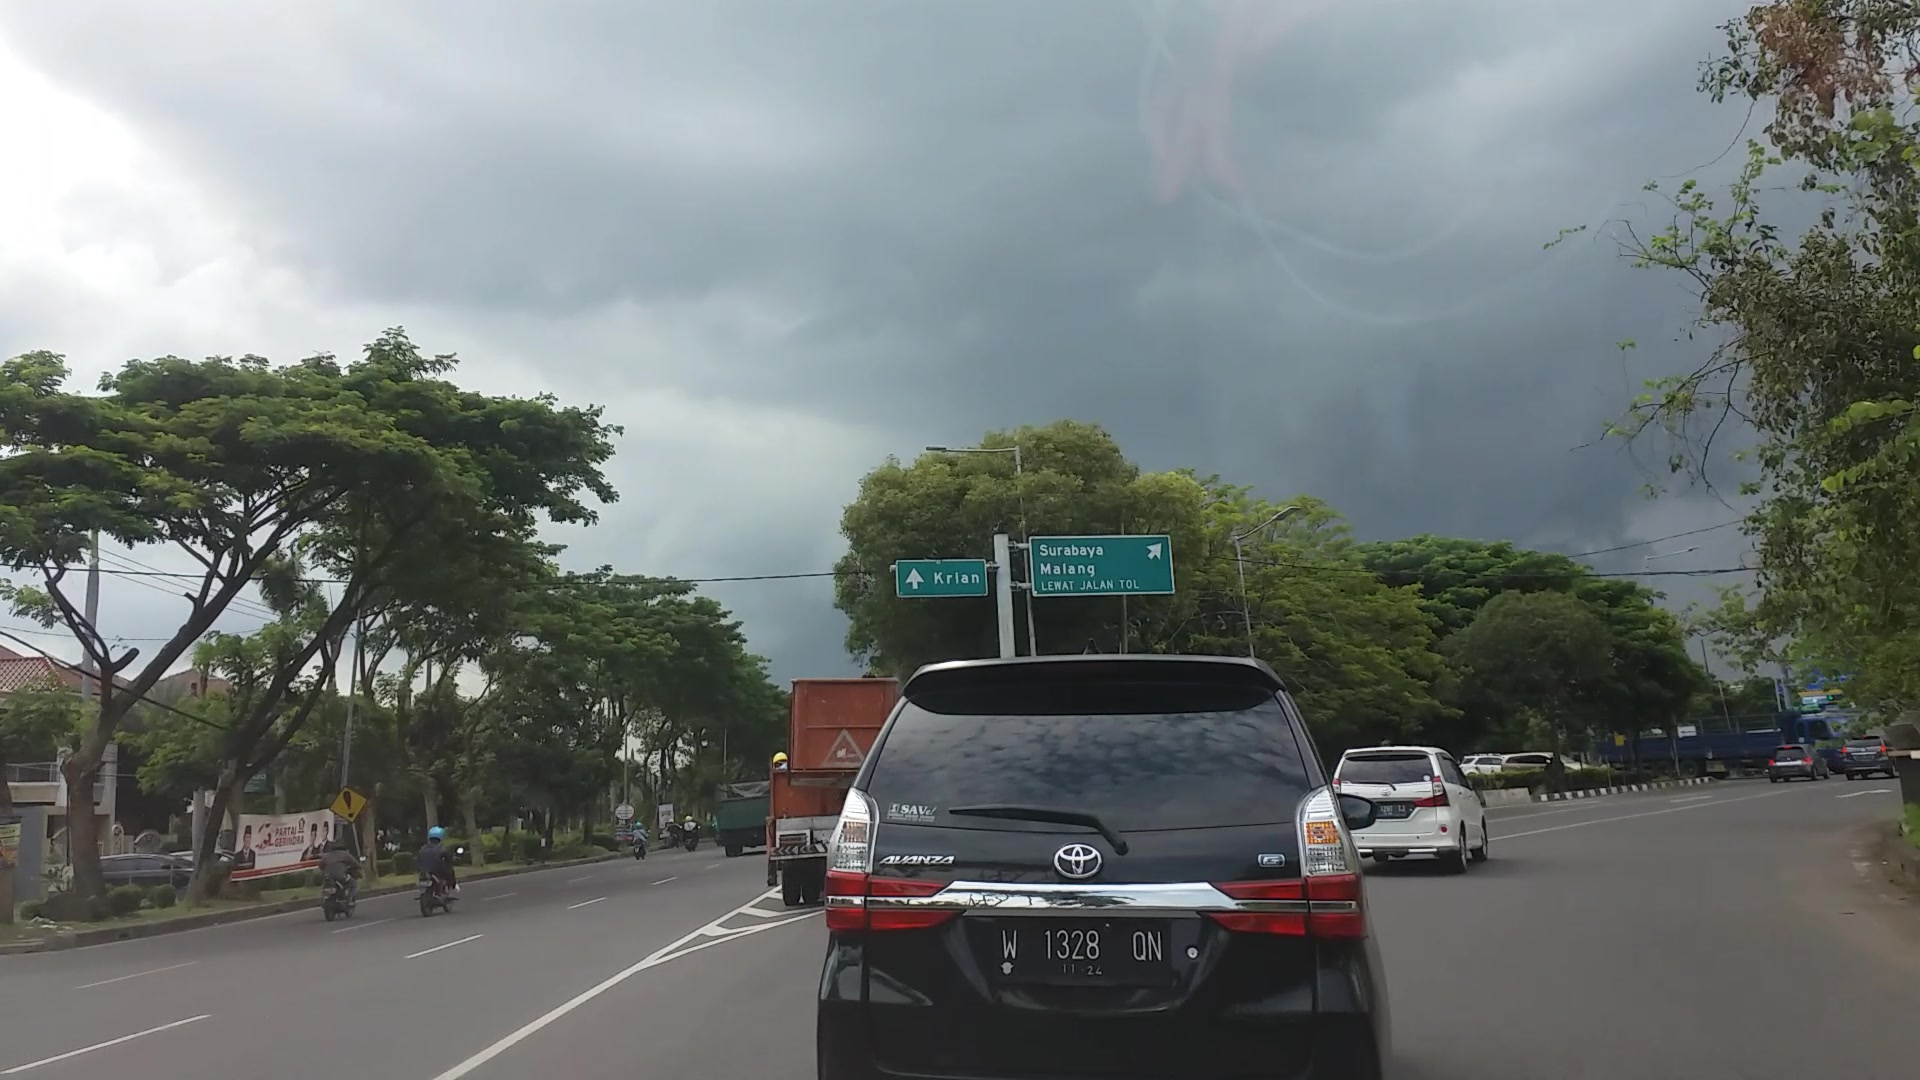plate_positive: (996, 922, 1167, 978)
